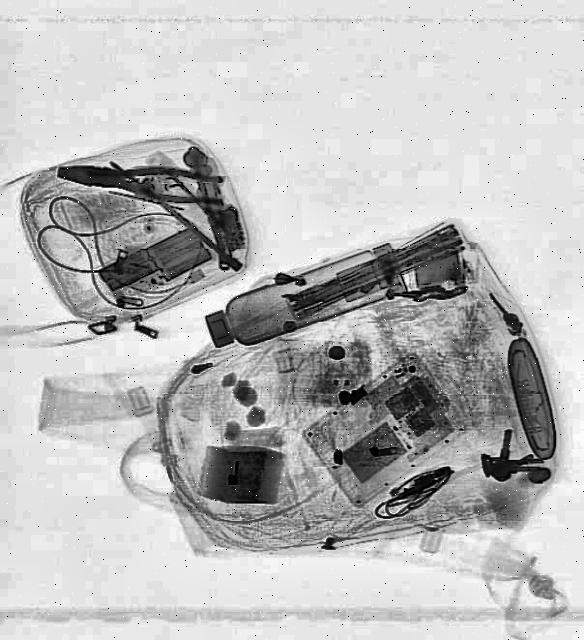Pliers: (53, 152, 229, 210)
